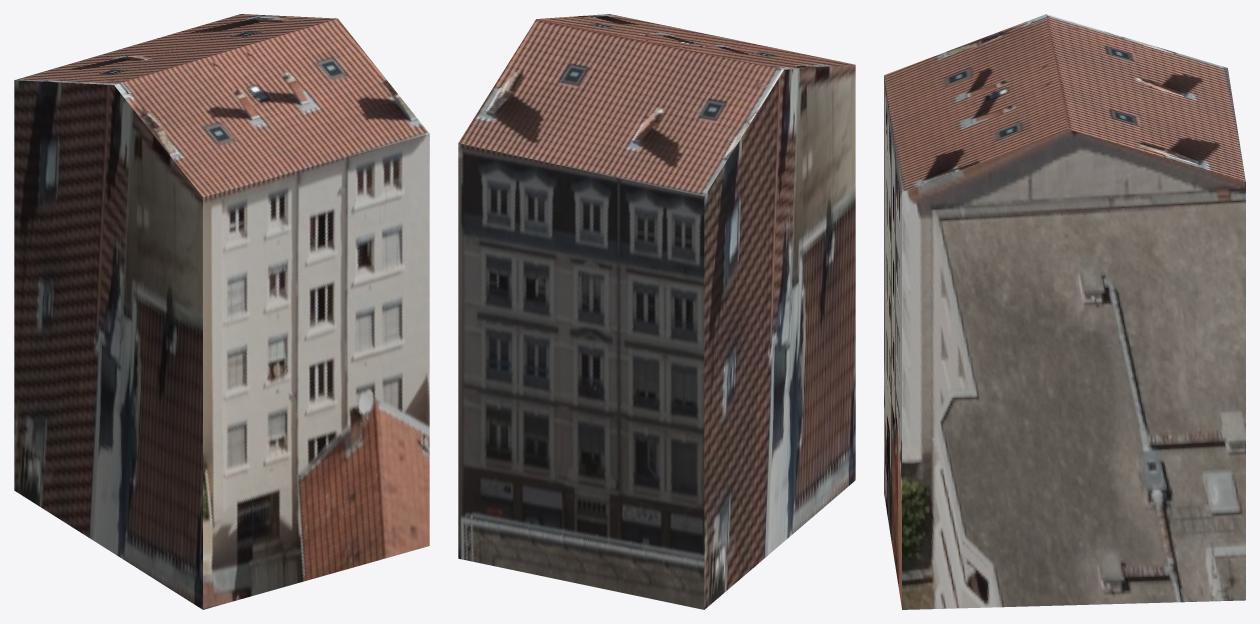
3 views of the same model, side by side, from view 1: azimuth 30°, elevation 25°; view 2: azimuth 150°, elevation 25°; view 3: azimuth 270°, elevation 25° (orthographic).
Parts seen in each view (by area): view 1: Z_UP; view 2: Z_UP; view 3: Z_UP.
Boxes of the visible parts, <box> form: Z_UP: <box>14,14,429,609</box>; Z_UP: <box>458,14,855,609</box>; Z_UP: <box>884,14,1245,609</box>.
Bounding box in the file's own units: 12.21 × 21.49 × 14.81.
Materials: 2 (1 with a texture image).
